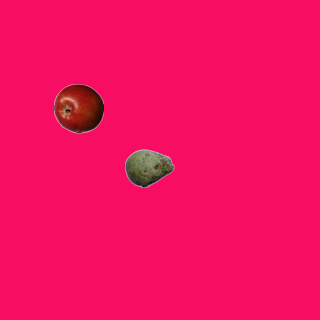Apple Braeburn: (53, 83, 103, 133)
Pear Stone: (124, 143, 174, 193)
